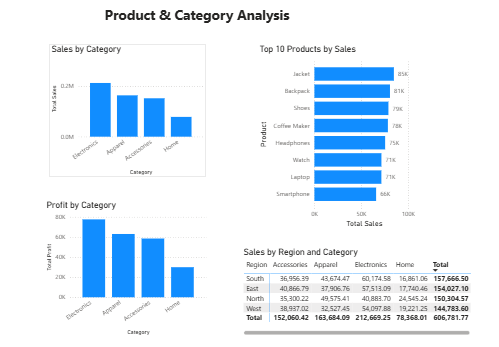

This screenshot's page, from the dashboard's own definition file:
{"tool":"powerbi","page":{"name":"Product & Category Analysis","canvas":[1280,720],"ordinal":1},"visuals":[{"type":"clusteredColumnChart","title":"Sales by Category","fields":{"Category":["sales_finance_dataset.Category"],"Y":["sales_finance_dataset.Total Sales"]},"box":[243.5,99.5,305.9,259.9],"z":0},{"type":"textbox","box":[347.9,20.1,544.1,78],"z":1},{"type":"clusteredColumnChart","title":"Profit by Category","fields":{"Category":["sales_finance_dataset.Category"],"Y":["sales_finance_dataset.Total Profit"]},"box":[234.6,403.9,322.2,268.8],"z":2},{"type":"barChart","title":"Top 10 Products by Sales","fields":{"Category":["sales_finance_dataset.Product"],"Y":["sales_finance_dataset.Total Sales"]},"box":[650.4,99.5,326.7,362.3],"z":3},{"type":"pivotTable","title":"Sales by Region and Category","fields":{"Rows":["sales_finance_dataset.Region"],"Columns":["sales_finance_dataset.Category"],"Values":["sales_finance_dataset.Total Sales"]},"box":[619.2,496,452.9,176.7],"z":4}]}

Visuals, with their boxes on the page's 1280x720 design canvas (x1, y1, x2, y2). These are canvas units, not pixel positions in the 499x347 screenshot, which may show the page scaled, cropped or inside an application window:
"Sales by Category" clusteredColumnChart: Rect(244, 100, 549, 359)
textbox: Rect(348, 20, 892, 98)
"Profit by Category" clusteredColumnChart: Rect(235, 404, 557, 673)
"Top 10 Products by Sales" barChart: Rect(650, 100, 977, 462)
"Sales by Region and Category" pivotTable: Rect(619, 496, 1072, 673)
